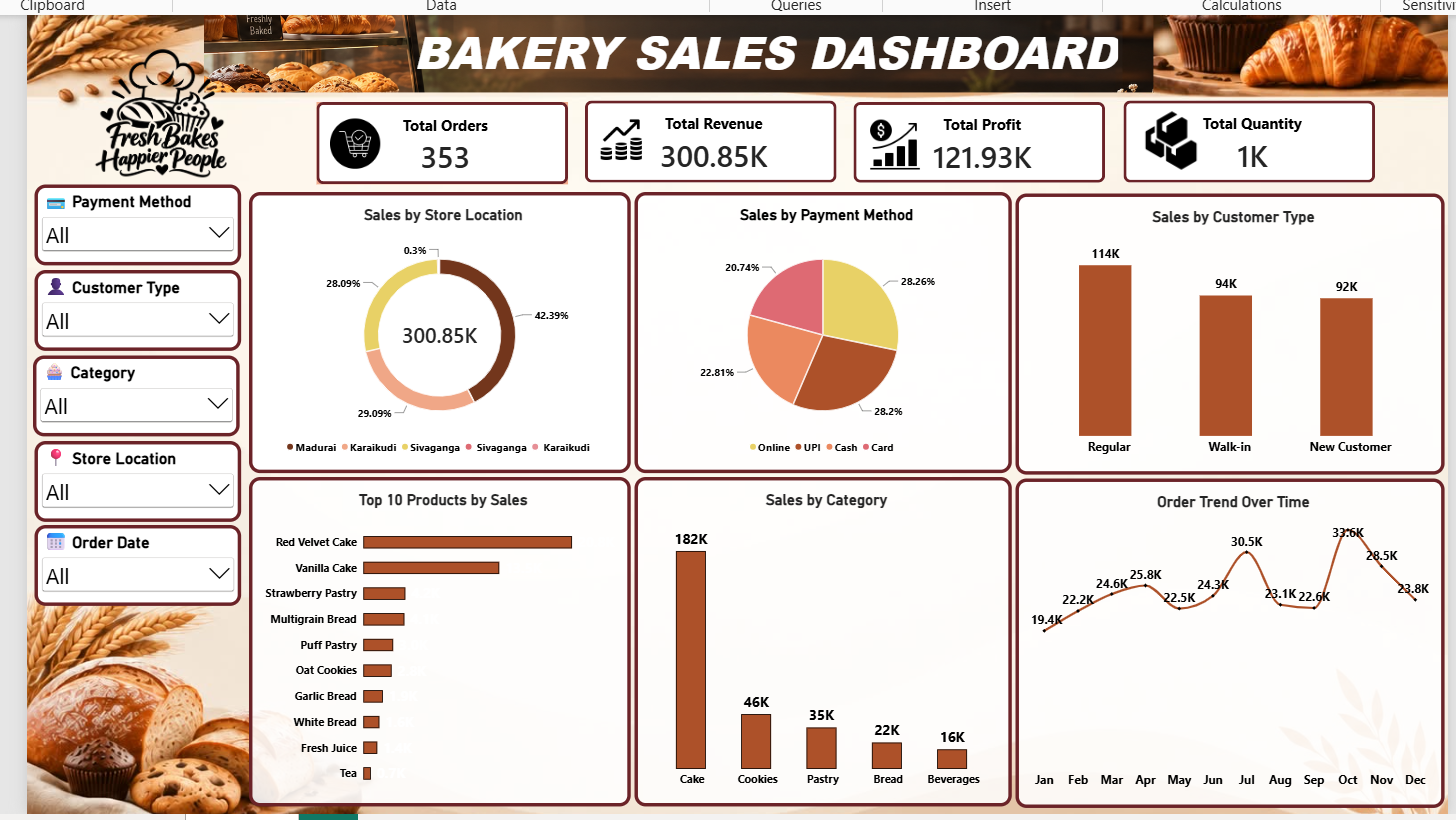

Layout of this report page (visuals, bound fields, positions):
{"tool":"powerbi","page":{"name":"Page 1","canvas":[1920,1080],"ordinal":0},"visuals":[{"type":"columnChart","title":"Sales by Category","fields":{"Category":["Raw Bakery Sales.Category"],"Y":["Raw Bakery Sales.Total Revenue"]},"box":[822,624.6,510,445],"z":0},{"type":"barChart","title":"Top 10 Products by Sales","fields":{"Category":["Raw Bakery Sales.Product"],"Y":["Instructions.Total Profit"]},"box":[300,624.6,516,445],"z":1000},{"type":"lineChart","title":"Order Trend Over Time","fields":{"Category":["Raw Bakery Sales.Month Short"],"Y":["Raw Bakery Sales.Total Revenue"]},"box":[1337,626.9,580,445],"z":2000},{"type":"donutChart","title":"Sales by Store Location","fields":{"Category":["Raw Bakery Sales.Store Location"],"Y":["Raw Bakery Sales.Total Revenue"]},"box":[300,238.5,516,380],"z":3000},{"type":"pieChart","title":"Sales by Payment Method","fields":{"Category":["Raw Bakery Sales.Payment Method"],"Y":["Raw Bakery Sales.Total Revenue"]},"box":[822,238.5,510,380],"z":4000},{"type":"clusteredColumnChart","title":"Sales by Customer Type","fields":{"Category":["Raw Bakery Sales.Customer Type"],"Y":["Raw Bakery Sales.Total Revenue"]},"box":[1337,240.8,580,380],"z":5000},{"type":"cardVisual","fields":{"Data":["Raw Bakery Sales.Total Revenue"]},"box":[754.1,115.8,340.7,111.3],"z":6000},{"type":"cardVisual","fields":{"Data":["Instructions.Total Profit"]},"box":[1117.5,118.1,340.7,109],"z":7000},{"type":"cardVisual","fields":{"Data":["Instructions.Total Quantity"]},"box":[1483.2,115.8,340.7,111.3],"z":8000},{"type":"cardVisual","fields":{"Data":["Instructions.Total Orders"]},"box":[390.7,118.1,340,111.3],"z":9000},{"type":"slicer","fields":{"Values":["Raw Bakery Sales.Category"]},"box":[9.1,460,279.4,109],"z":10000},{"type":"slicer","fields":{"Values":["Raw Bakery Sales.Store Location"]},"box":[10,575,279,109],"z":11000},{"type":"slicer","fields":{"Values":["Raw Bakery Sales.Customer Type"]},"box":[10,345,279,109],"z":12000},{"type":"slicer","fields":{"Values":["Raw Bakery Sales.Payment Method"]},"box":[10,230,279,109],"z":13000},{"type":"slicer","fields":{"Values":["Raw Bakery Sales.Order Date.Variation.Date Hierarchy.Month"]},"box":[10,690,279.4,109],"z":14000},{"type":"image","box":[238.5,0,1283.3,104.5],"z":15000},{"type":"shape","box":[408.8,0,1178.8,93.1],"z":16000},{"type":"image","box":[408.8,134,68.1,79.5],"z":17000},{"type":"image","box":[772.2,122.7,61.3,94],"z":18000},{"type":"image","box":[1137.9,129.5,72,90],"z":19000},{"type":"image","box":[1503.6,124.9,84,88.6],"z":20000},{"type":"image","box":[0,43.2,363.4,181.7],"z":21000}]}

Visuals, with their boxes in screenshot pixels (x1, y1, x2, y2):
"Sales by Category" columnChart: detection(626, 475, 1008, 807)
"Top 10 Products by Sales" barChart: detection(236, 475, 622, 807)
"Order Trend Over Time" lineChart: detection(1011, 476, 1445, 809)
"Sales by Store Location" donutChart: detection(236, 186, 622, 470)
"Sales by Payment Method" pieChart: detection(626, 186, 1008, 470)
"Sales by Customer Type" clusteredColumnChart: detection(1011, 188, 1445, 472)
cardVisual - Raw Bakery Sales.Total Revenue: detection(575, 94, 830, 177)
cardVisual - Instructions.Total Profit: detection(847, 96, 1102, 177)
cardVisual - Instructions.Total Quantity: detection(1121, 94, 1375, 177)
cardVisual - Instructions.Total Orders: detection(304, 96, 558, 179)
slicer - Raw Bakery Sales.Category: detection(18, 352, 227, 433)
slicer - Raw Bakery Sales.Store Location: detection(19, 438, 228, 519)
slicer - Raw Bakery Sales.Customer Type: detection(19, 266, 228, 347)
slicer - Raw Bakery Sales.Payment Method: detection(19, 180, 228, 261)
slicer - Raw Bakery Sales.Order Date.Variation.Date Hierarchy.Month: detection(19, 524, 228, 605)
image: detection(190, 8, 1149, 86)
shape: detection(317, 8, 1199, 77)
image: detection(317, 108, 368, 167)
image: detection(589, 99, 635, 170)
image: detection(862, 104, 916, 172)
image: detection(1136, 101, 1199, 167)
image: detection(11, 40, 283, 176)
